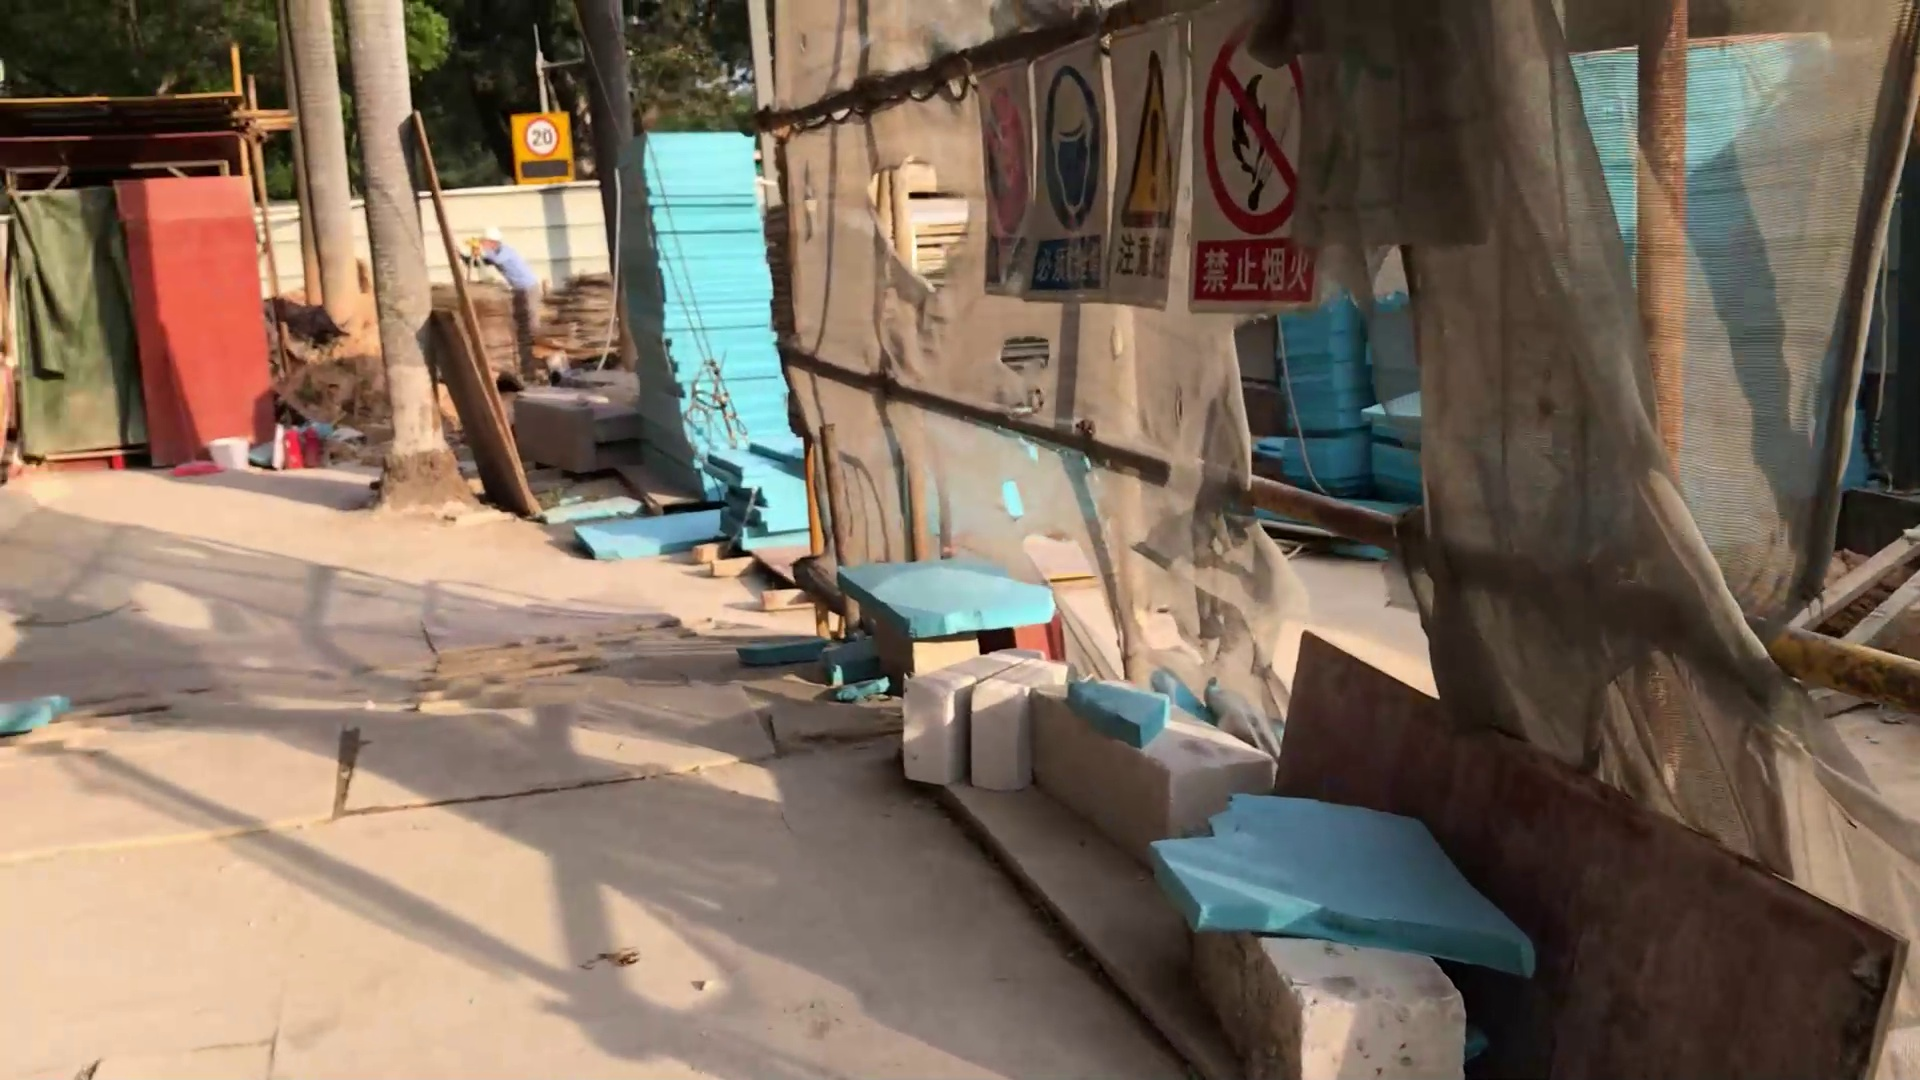helmet: (475, 226, 503, 250)
person: (453, 225, 542, 328)
slogan: (989, 1, 1318, 300), (510, 107, 571, 183)
